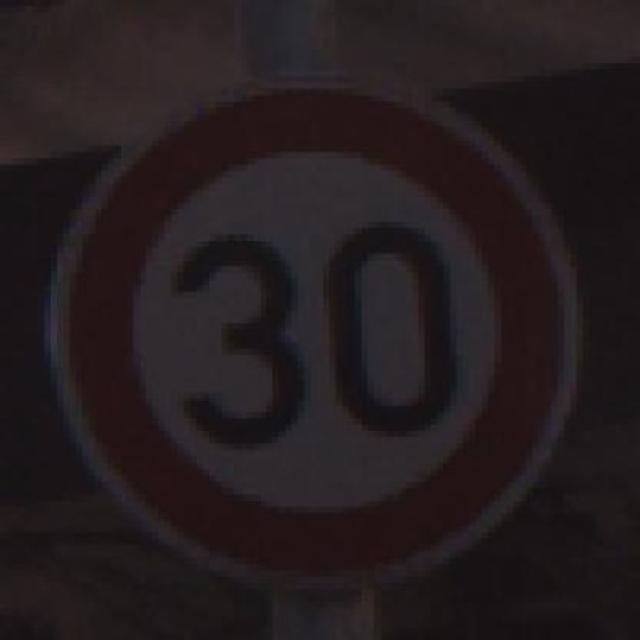Speed Limit 30 KMPh: (37, 76, 608, 602)
